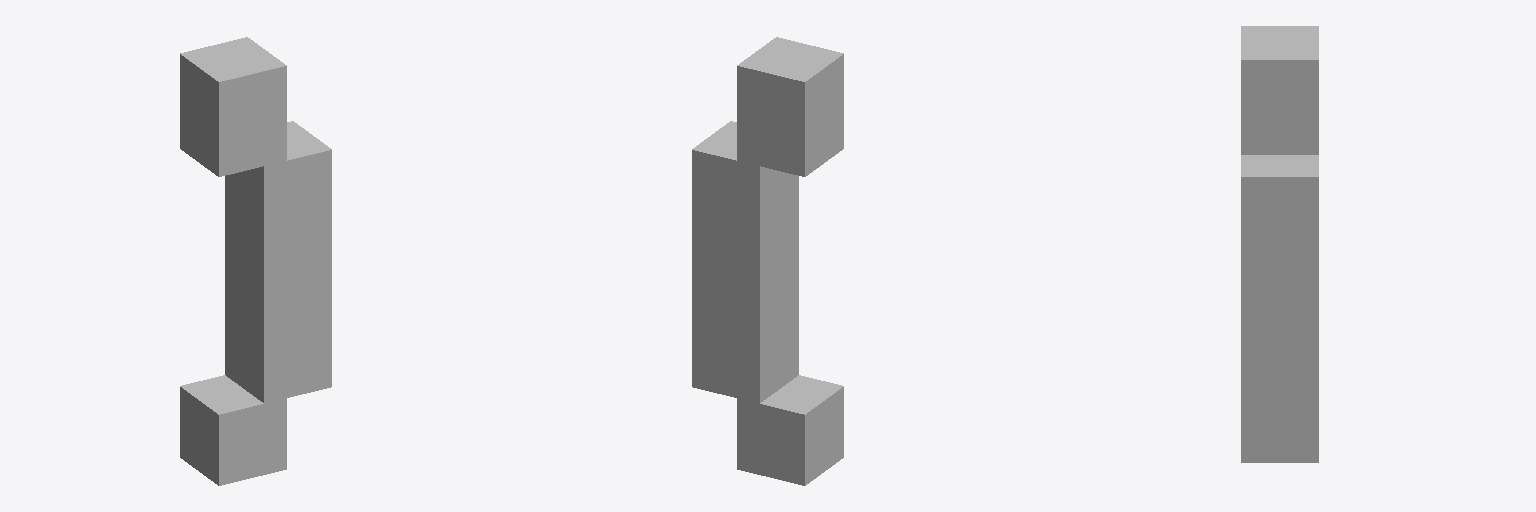
Rendered from banana.obj.
3 views of the same model, side by side, from view 1: azimuth 30°, elevation 25°; view 2: azimuth 150°, elevation 25°; view 3: azimuth 270°, elevation 25° (orthographic).
Visible parts, largest first — view 1: cube; view 2: cube; view 3: cube.
Part boxes in pixels (left/top/right/bottom): cube: left=180, top=37, right=331, bottom=485; cube: left=692, top=37, right=843, bottom=485; cube: left=1241, top=26, right=1318, bottom=462.
Bounding box in the file's own units: 0.3125 × 1.06 × 0.1875.